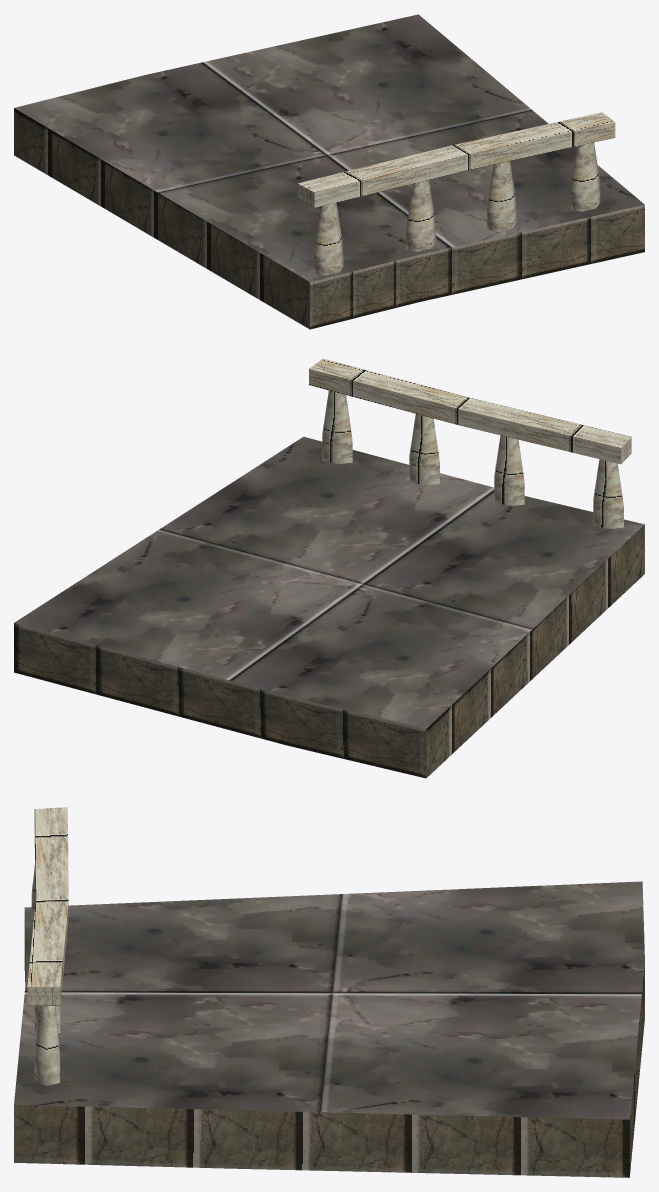
The model's file is INST_SM_WALKWAYD.fbx.
3 views of the same model, one above another, from view 1: azimuth 30°, elevation 25°; view 2: azimuth 150°, elevation 25°; view 3: azimuth 270°, elevation 25° (orthographic). The views are drawn at different scales.
Visible parts, largest first — view 1: INST_SM_WALKWAYD; view 2: INST_SM_WALKWAYD; view 3: INST_SM_WALKWAYD.
Part boxes in pixels (x1,y1,x2,y2): INST_SM_WALKWAYD: (14, 14, 644, 329); INST_SM_WALKWAYD: (14, 358, 644, 778); INST_SM_WALKWAYD: (14, 807, 644, 1177).
Size of the model in its own units: 53819 by 16994 by 60197.
3 materials, 3 textured.
